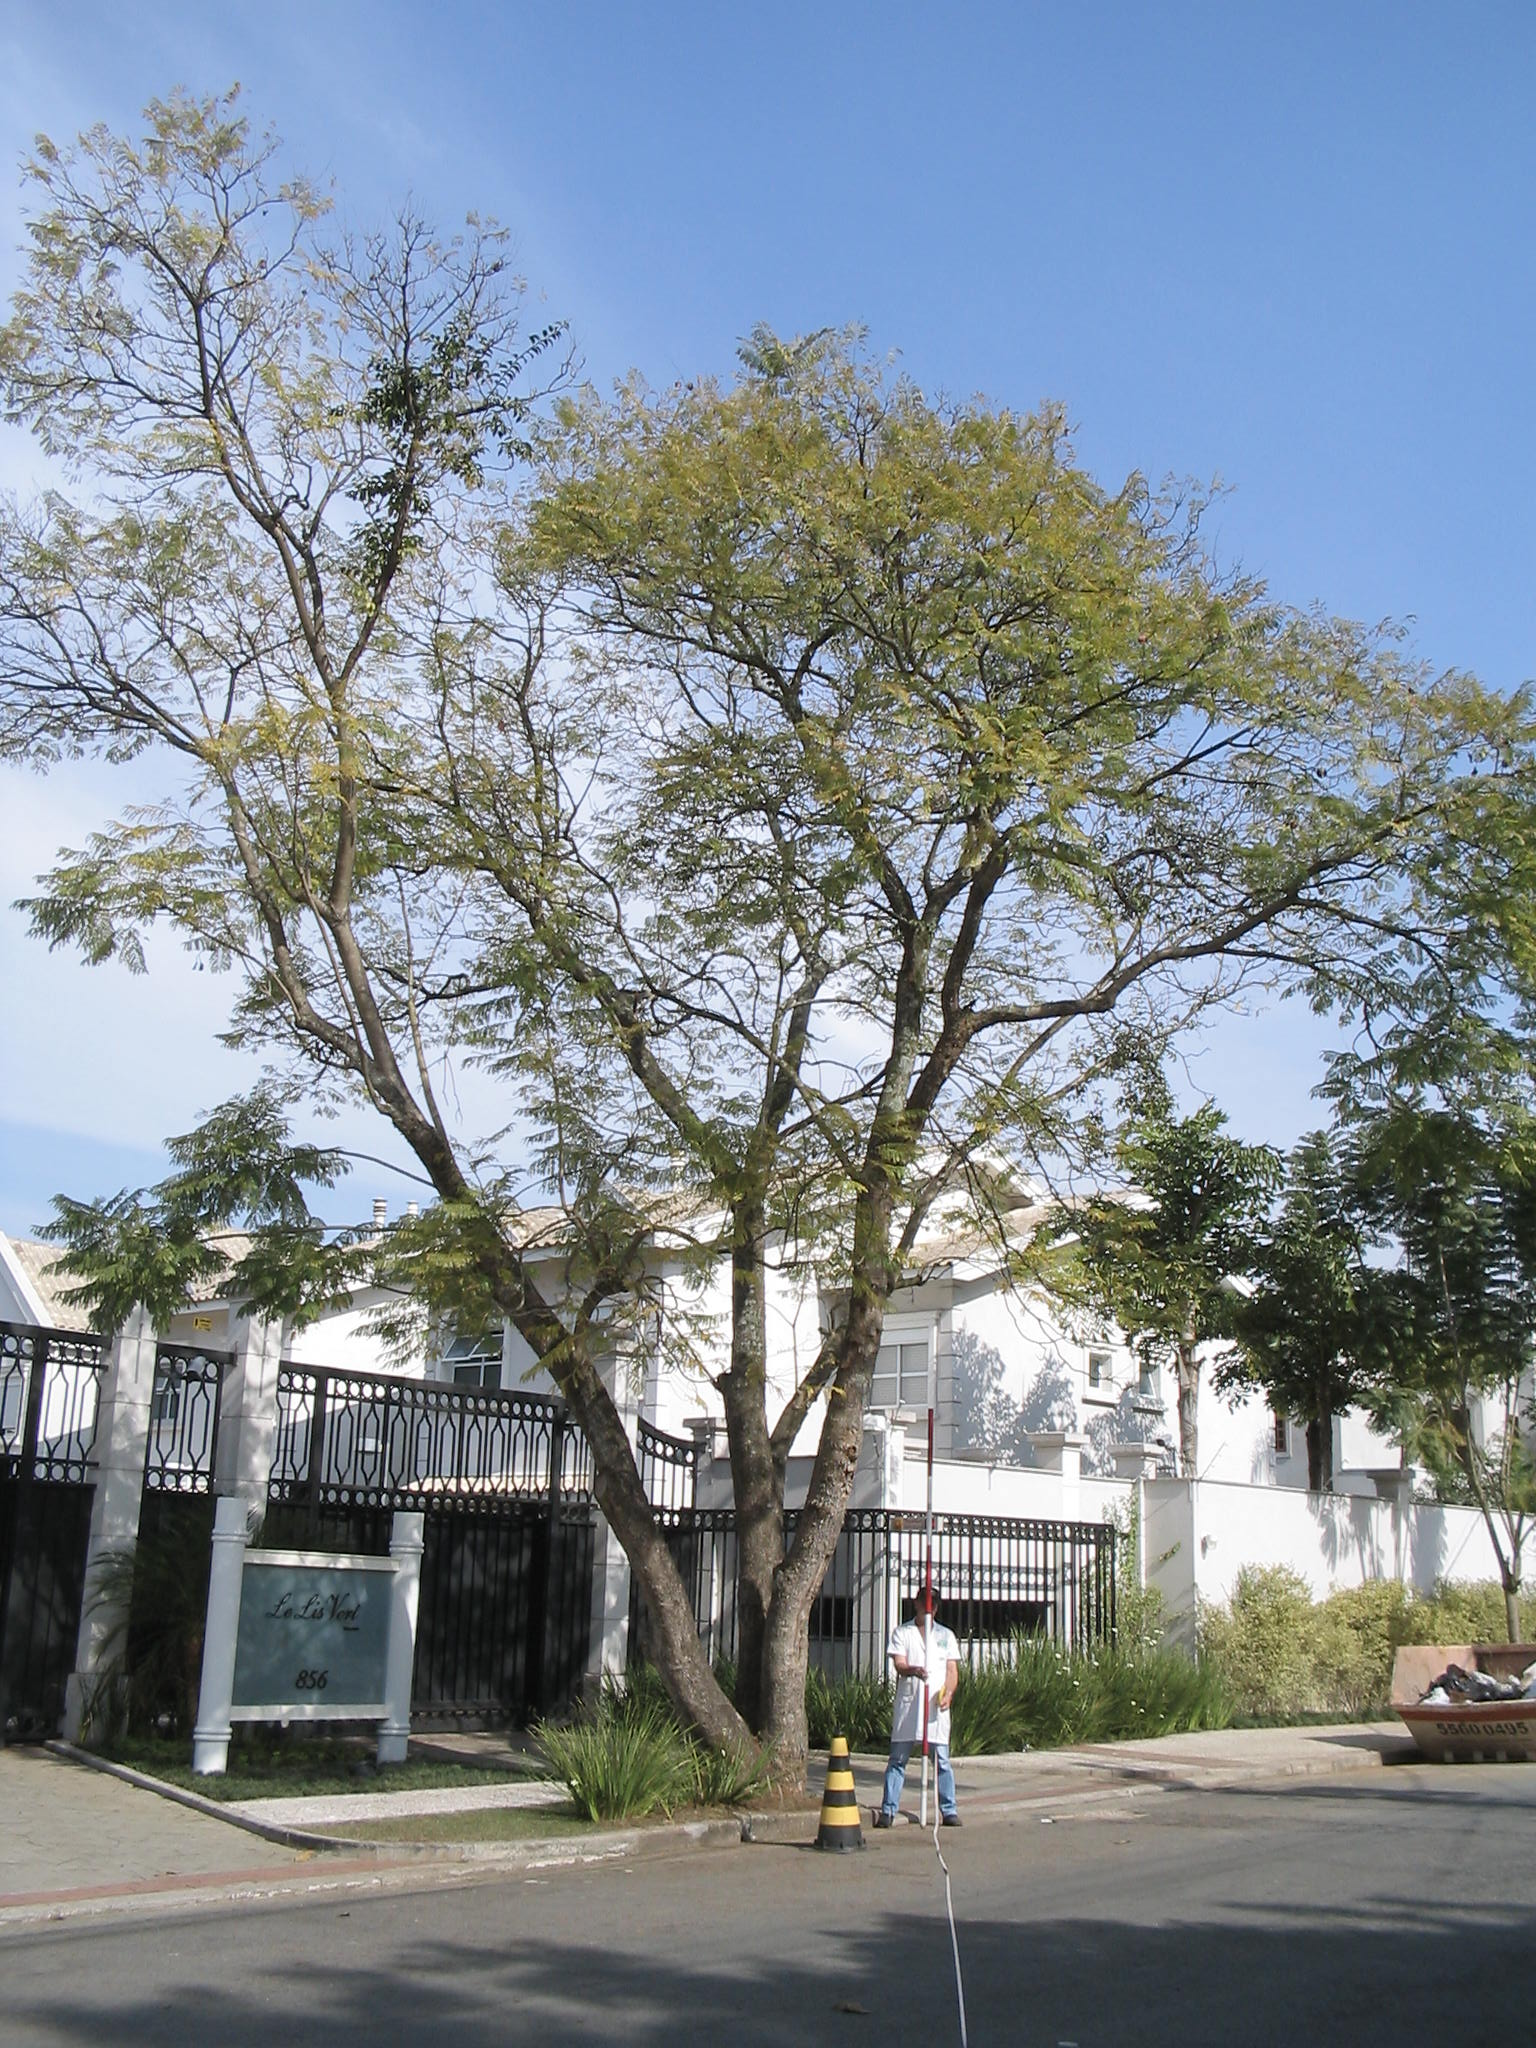crown: (15, 84, 1496, 1434)
stick: (892, 1409, 963, 1827)
tree: (3, 79, 1488, 1800)
